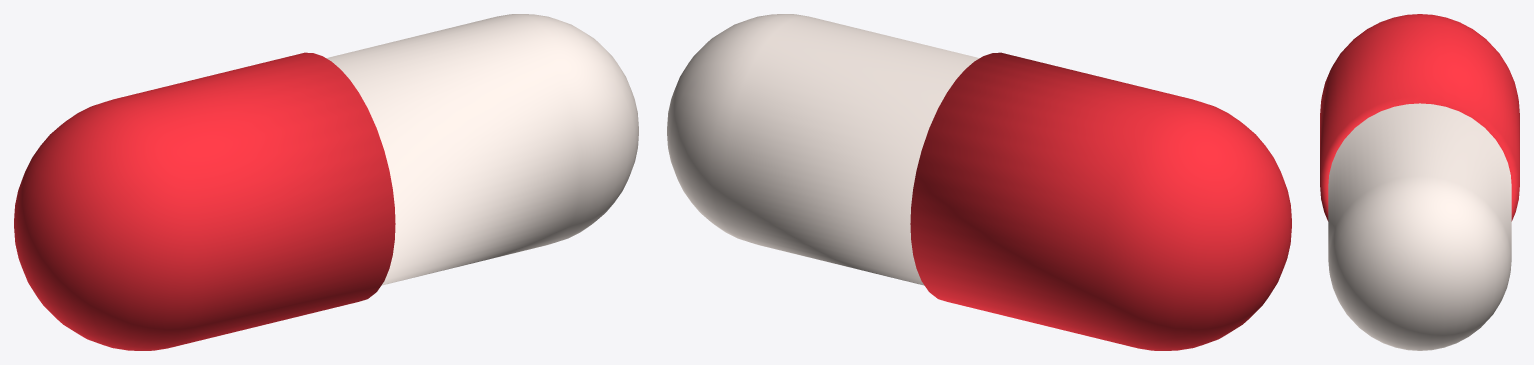
File: ReadyCapsule.fbx
3 renders of one model, left to right at view 1: azimuth 30°, elevation 25°; view 2: azimuth 150°, elevation 25°; view 3: azimuth 270°, elevation 25°, orthographic. The views are drawn at different scales.
Parts seen in each view (by area): view 1: Roundcube; view 2: Roundcube; view 3: Roundcube.
Boxes of the visible parts, bbox=[...] form: Roundcube: bbox=[14, 14, 638, 350]; Roundcube: bbox=[667, 14, 1291, 350]; Roundcube: bbox=[1320, 14, 1519, 350].
Bounding box in the file's own units: 1.8 × 0.6714 × 0.6714.
